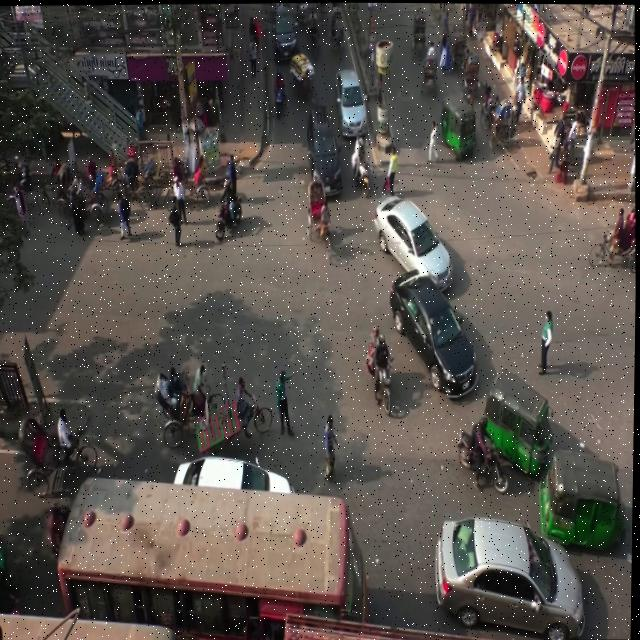cng: (535, 431, 635, 548), (478, 364, 559, 481), (432, 88, 485, 181)
rikshaw: (144, 364, 232, 443), (10, 404, 98, 483), (586, 186, 637, 288), (297, 165, 339, 273), (162, 135, 212, 220), (59, 163, 111, 234), (117, 139, 161, 213), (29, 150, 69, 227), (476, 86, 518, 148), (412, 43, 444, 105), (460, 44, 486, 101), (408, 2, 427, 53), (329, 7, 345, 63), (405, 445, 407, 446)
